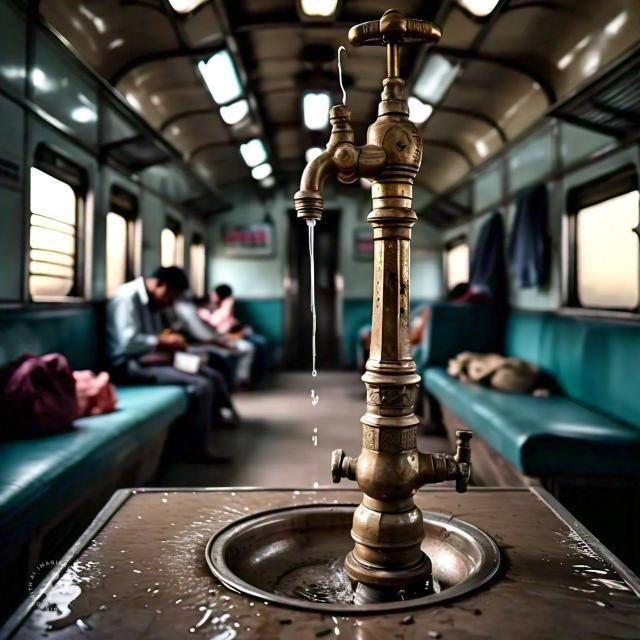Tap_Leaking: (286, 1, 469, 394)
